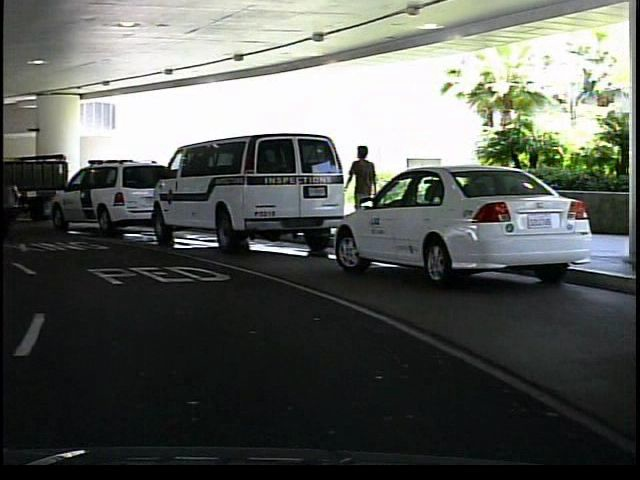person: (341, 139, 377, 243)
